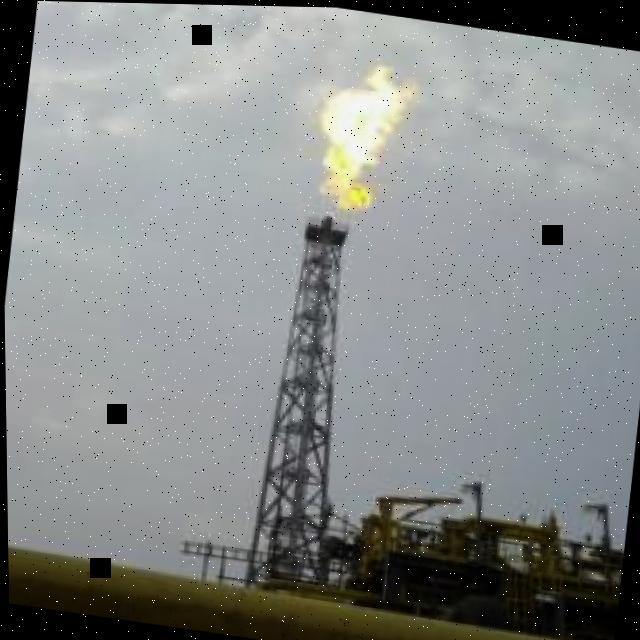fire: (317, 64, 416, 213)
